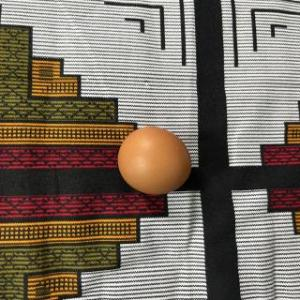egg: (115, 126, 191, 196)
